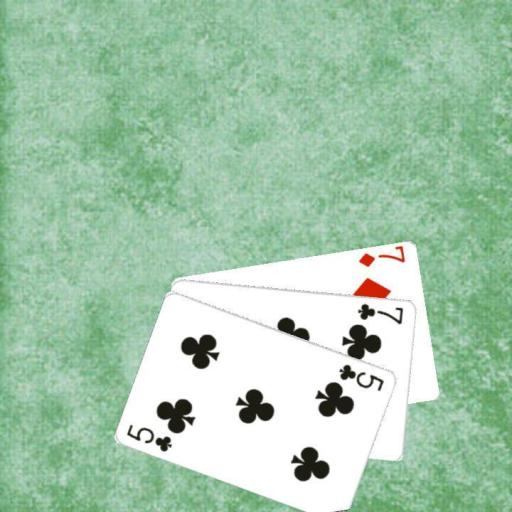card-corner: (336, 360, 386, 392), (124, 421, 174, 453), (355, 300, 405, 326), (356, 244, 408, 268)
